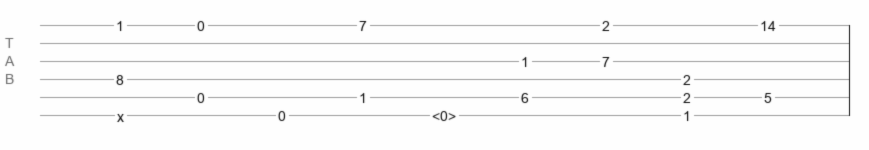0: (197, 18, 205, 28), (197, 90, 205, 100), (278, 108, 286, 118)
1: (116, 18, 124, 28), (359, 90, 367, 100), (521, 54, 529, 64), (683, 108, 691, 118)
14: (760, 18, 776, 28)
2: (602, 18, 610, 28), (683, 90, 691, 100), (683, 72, 691, 82)
5: (764, 90, 772, 100)
6: (521, 90, 529, 100)
7: (359, 18, 367, 28), (602, 54, 610, 64)
8: (116, 72, 124, 82)
harmonic: (432, 108, 456, 118)
x: (117, 109, 124, 117)
